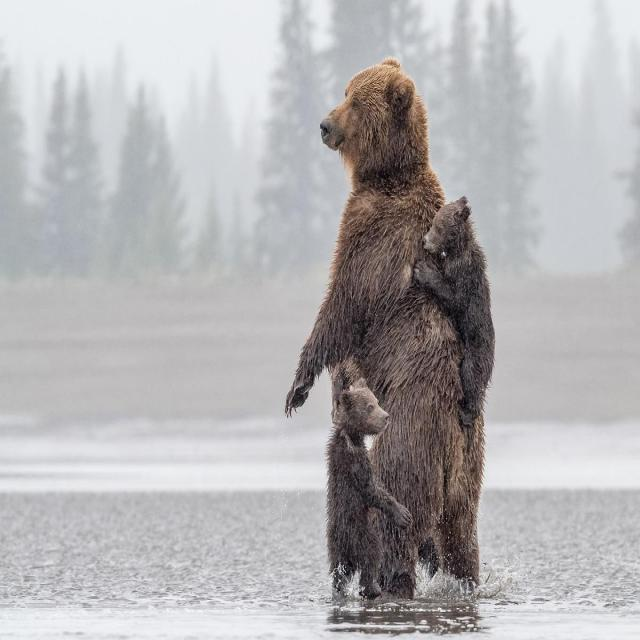Bear: (286, 73, 484, 597), (327, 364, 417, 612), (413, 208, 496, 419)
